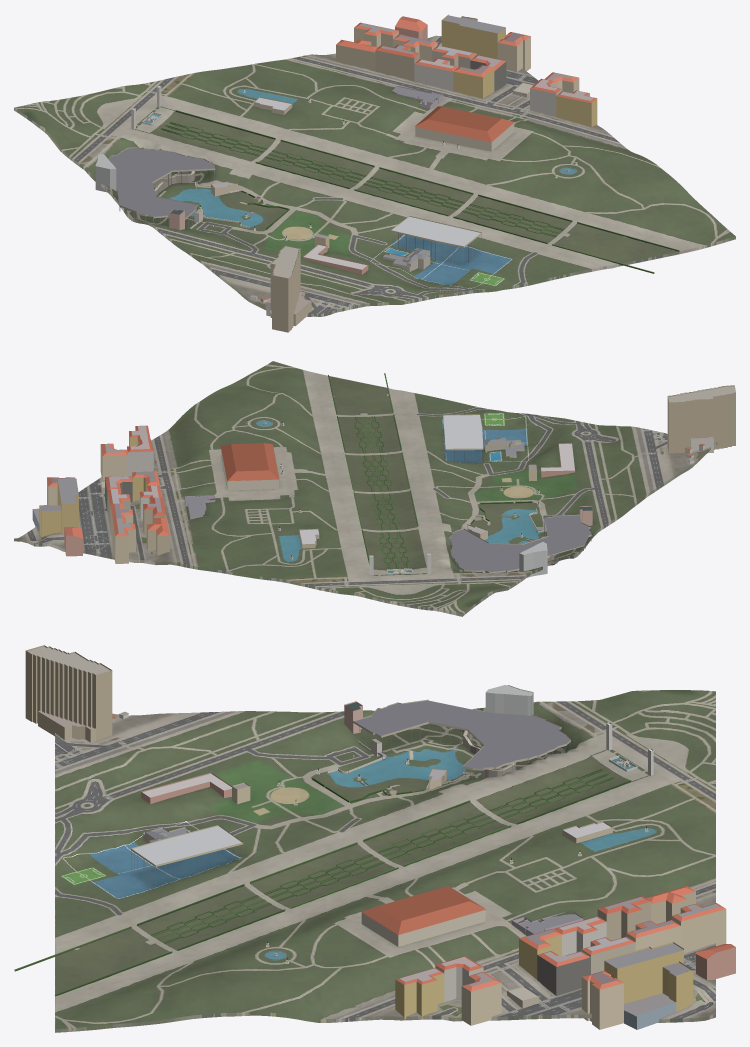
3 renders of one model, top to bottom at view 1: azimuth 30°, elevation 25°; view 2: azimuth 150°, elevation 25°; view 3: azimuth 270°, elevation 25°, orthographic. The views are drawn at different scales.
Visible parts, largest first — view 1: terrain, buildings; view 2: terrain, buildings; view 3: terrain, buildings.
Boxes of the visible parts, left/top/right/bottom form: terrain: left=14, top=35, right=735, bottom=316; buildings: left=95, top=14, right=679, bottom=332; terrain: left=14, top=361, right=717, bottom=616; buildings: left=32, top=373, right=735, bottom=577; terrain: left=55, top=690, right=715, bottom=1032; buildings: left=14, top=645, right=735, bottom=1029.
Bounding box in the file's own units: 525 × 86.79 × 546.
2 materials, 1 textured.
